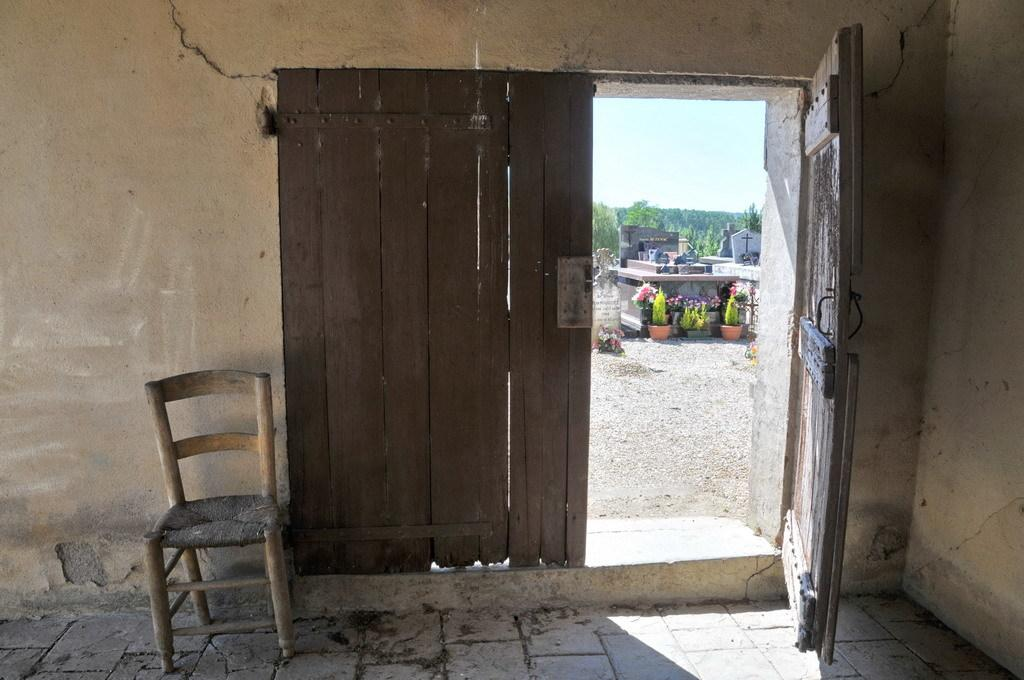Chair: (132, 350, 310, 673)
